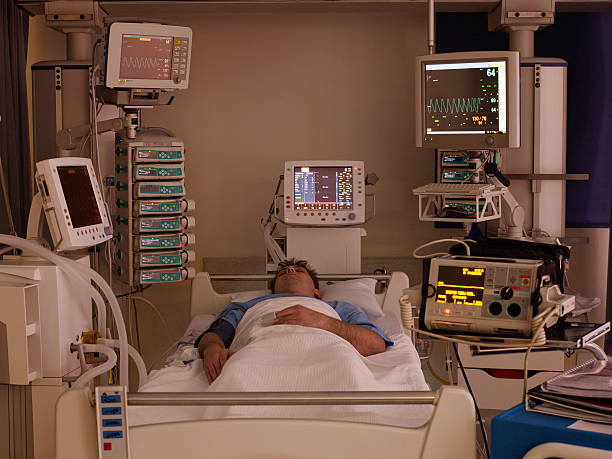bedside_monitor: (33, 157, 115, 249), (107, 21, 192, 91), (285, 163, 375, 226)
breathing_tube: (1, 234, 148, 393)
computer: (413, 50, 519, 149)
hospital_bed: (53, 262, 474, 459)
keyboard: (420, 179, 493, 200)
patient: (195, 261, 396, 413)
syringe_pump: (137, 272, 193, 288), (136, 236, 190, 252), (134, 147, 186, 163), (439, 154, 500, 166), (439, 168, 494, 181), (136, 166, 186, 179), (139, 253, 184, 266), (138, 201, 186, 213), (141, 219, 183, 231)
ventilator: (1, 157, 146, 459)
